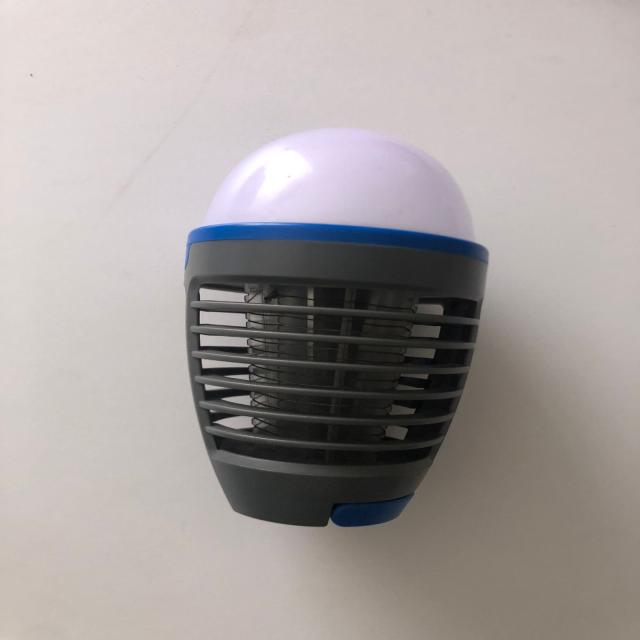Mosquito Killer: (181, 126, 491, 528)
